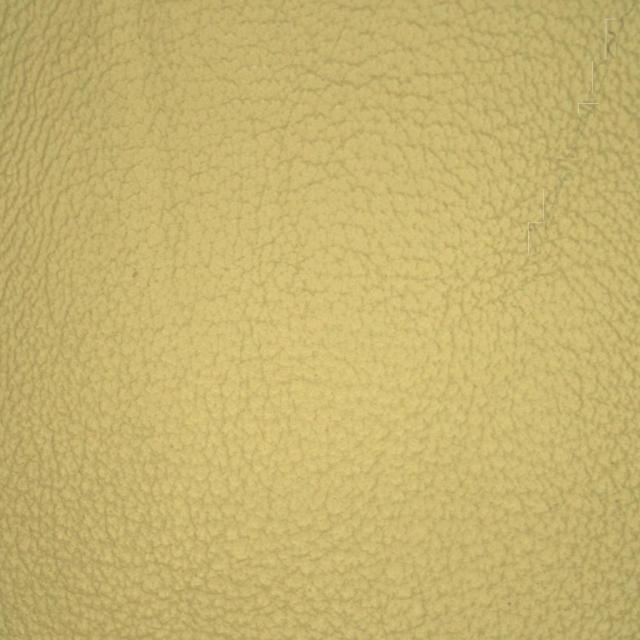pinhole: (69, 214, 221, 348)
